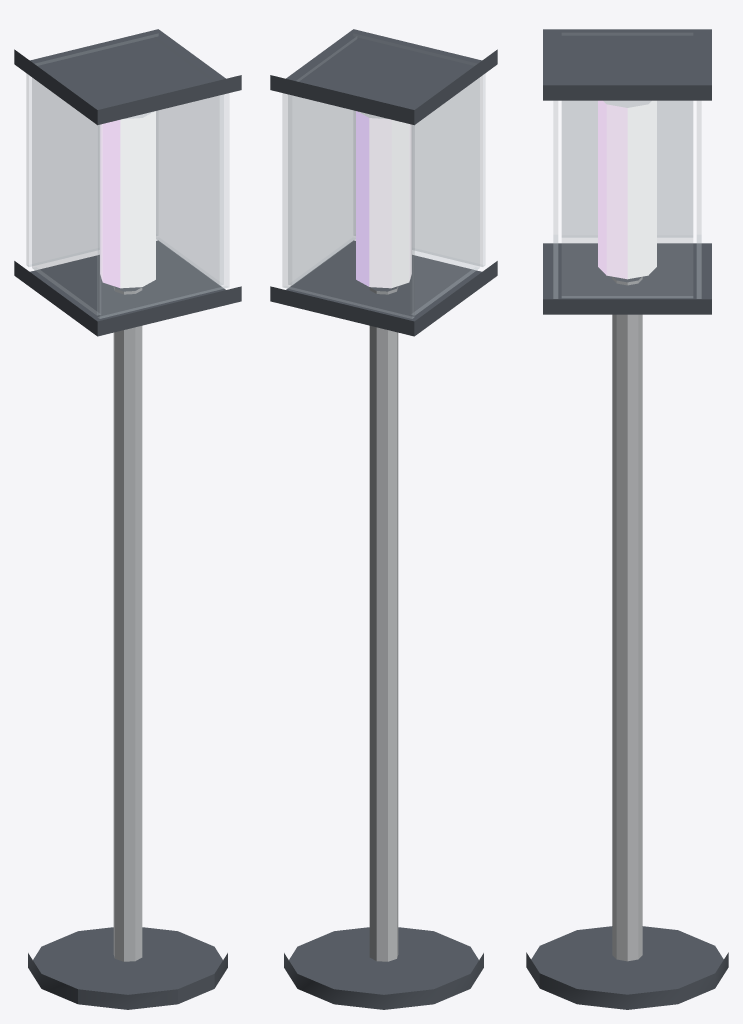
The model's file is ext_violet_field_lamp_01.glb.
3 renders of one model, left to right at view 1: azimuth 30°, elevation 25°; view 2: azimuth 150°, elevation 25°; view 3: azimuth 270°, elevation 25°, orthographic.
Visible parts, largest first — view 1: Panes, Lantern_Plates, Stake, Ground_Disc, Violet_Core; view 2: Panes, Lantern_Plates, Stake, Ground_Disc, Violet_Core; view 3: Panes, Lantern_Plates, Stake, Ground_Disc, Violet_Core.
Boxes of the visible parts, <box> form: Panes: <box>26,34,229,318</box>; Lantern_Plates: <box>14,29,241,336</box>; Stake: <box>113,286,142,961</box>; Ground_Disc: <box>28,927,227,1009</box>; Violet_Core: <box>100,111,155,288</box>; Panes: <box>282,34,485,318</box>; Lantern_Plates: <box>270,29,497,336</box>; Stake: <box>369,286,398,961</box>; Ground_Disc: <box>284,927,483,1009</box>; Violet_Core: <box>356,111,411,288</box>; Panes: <box>553,33,701,298</box>; Lantern_Plates: <box>543,29,711,314</box>; Stake: <box>612,276,642,961</box>; Ground_Disc: <box>526,926,728,1009</box>; Violet_Core: <box>598,100,656,279</box>.
Size of the model in its own units: 0.24 by 1.2 by 0.24.
